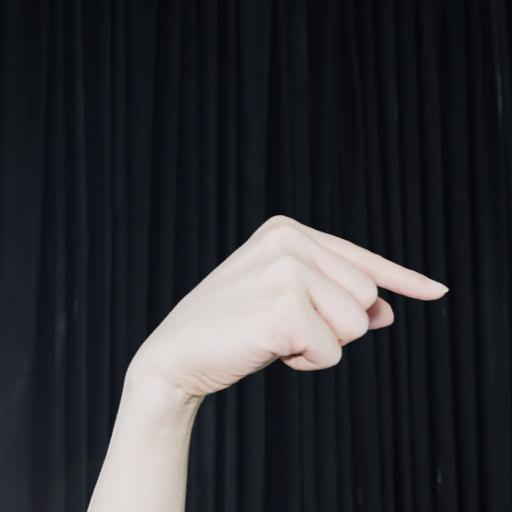G: (105, 204, 457, 410)
